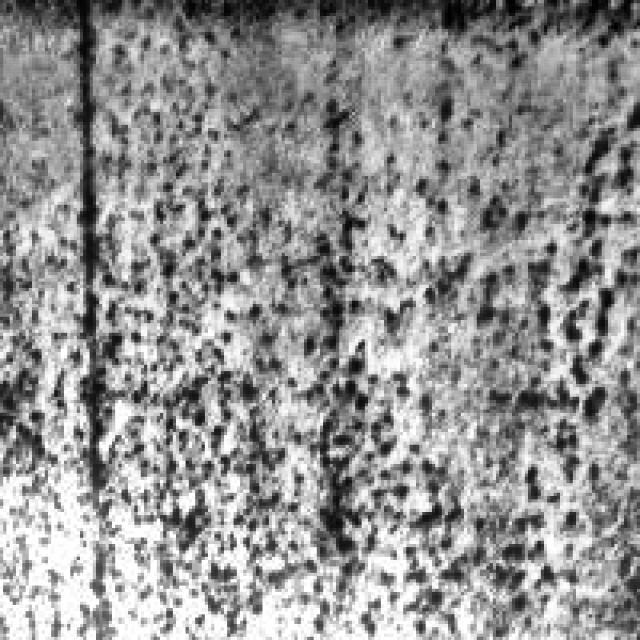Rolled_in_Scale: (26, 10, 636, 628)
